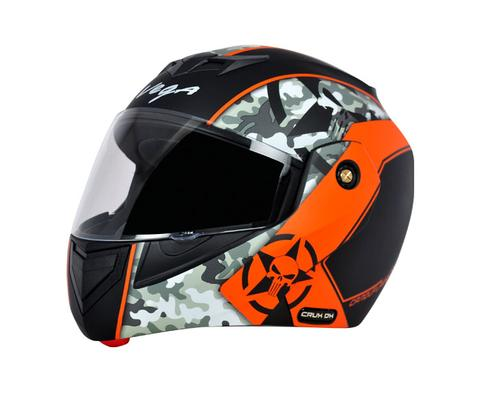with_helmet: (60, 39, 421, 349)
